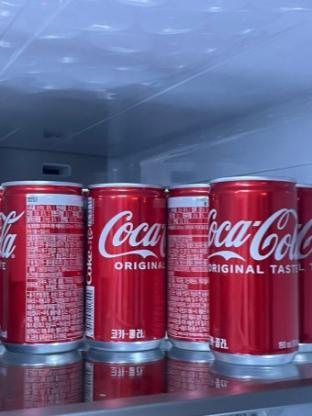Can: (210, 178, 298, 366), (0, 182, 82, 354), (84, 186, 166, 352), (168, 183, 214, 355)
